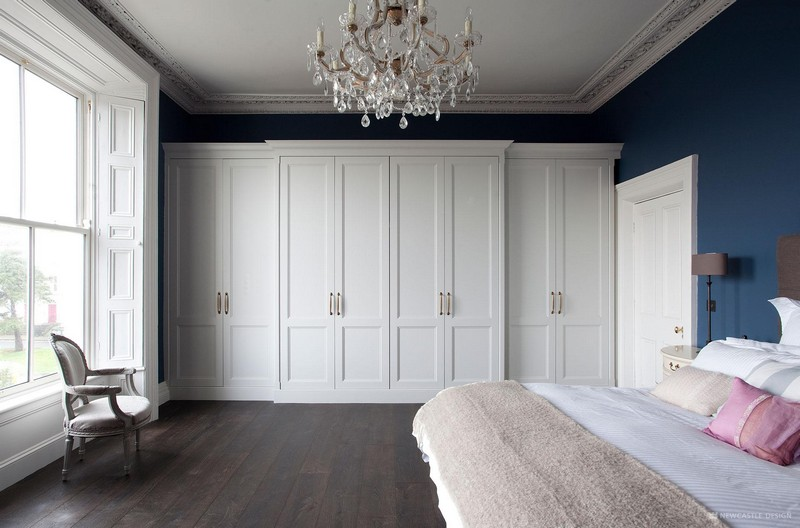bed: (415, 232, 798, 527)
chair: (49, 332, 153, 485)
door: (622, 186, 693, 392)
lamp: (690, 250, 729, 362)
